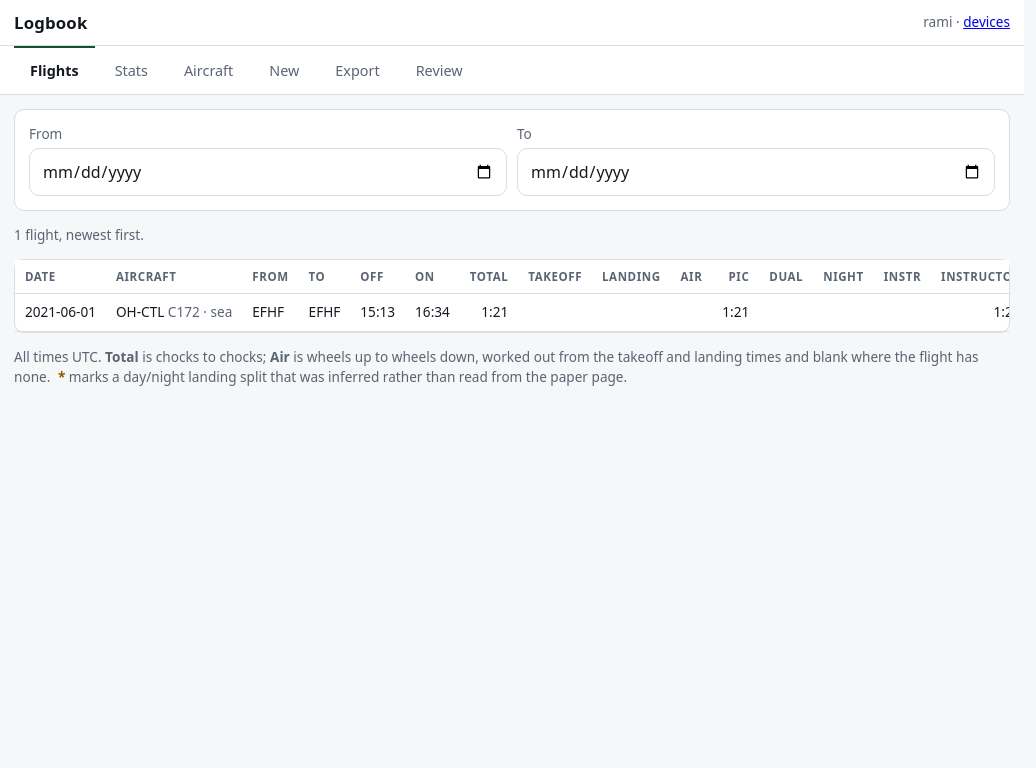
Test case: the statistics page › discloses the unverified landing split
Click the link "Stats": (131, 71) [115,61,148,80]
(page scrolled)
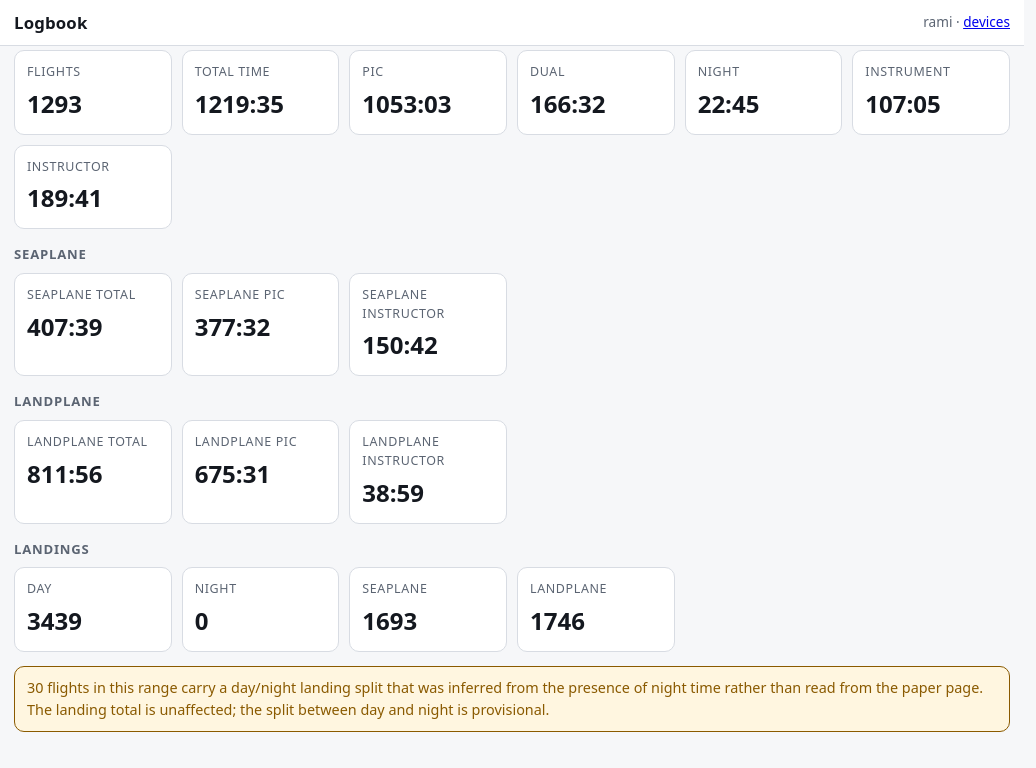
Now the text "30 flights in this range carry a day/night landing split" is shown, box [14,666,1010,732]
